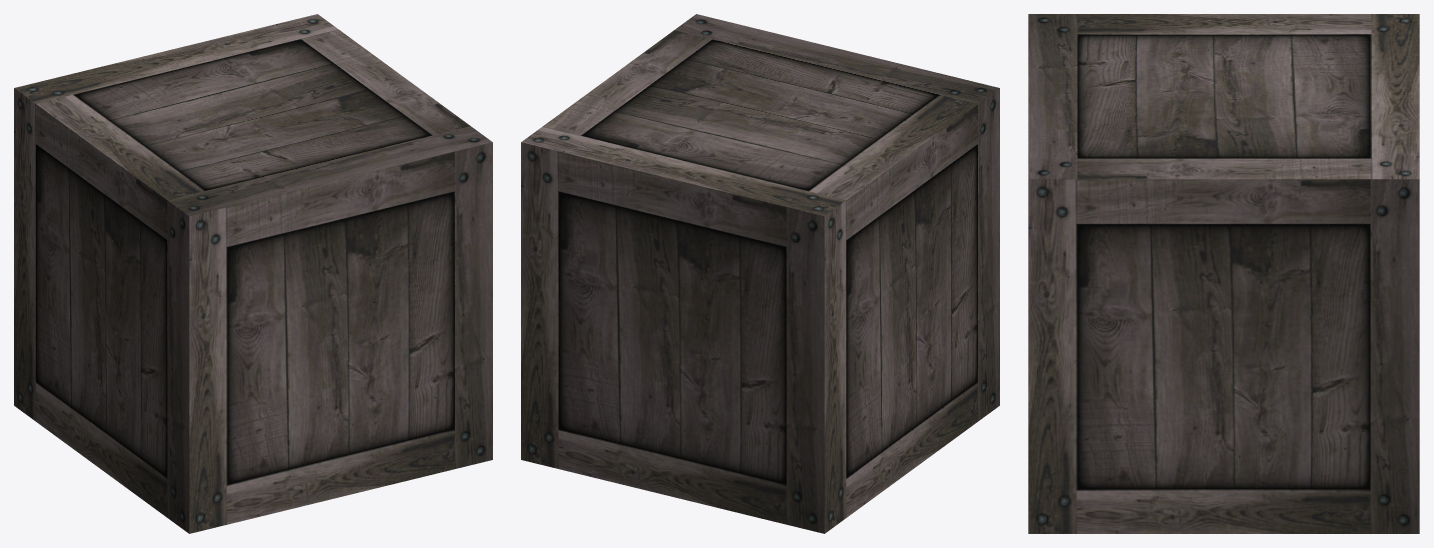
Rendered from Breakable_Wooden_Crate.fbx.
3 views of the same model, side by side, from view 1: azimuth 30°, elevation 25°; view 2: azimuth 150°, elevation 25°; view 3: azimuth 270°, elevation 25° (orthographic). The views are drawn at different scales.
Visible parts, largest first — view 1: Cube_Cube_001, Cube_Cube_001_fracturepart4, Cube_Cube_001_fracturepart6, Cube_Cube_001_fracturepart11, Cube_Cube_001_fracturepart17, Cube_Cube_001_fracturepart14, Cube_Cube_001_fracturepart1, Cube_Cube_001_fracturepart7, Cube_Cube_001_fracturepart2, Cube_Cube_001_fracturepart18, Cube_Cube_001_fracturepart20, Cube_Cube_001_fracturepart9 (+3 smaller); view 2: Cube_Cube_001, Cube_Cube_001_fracturepart2, Cube_Cube_001_fracturepart15, Cube_Cube_001_fracturepart10, Cube_Cube_001_fracturepart5, Cube_Cube_001_fracturepart7, Cube_Cube_001_fracturepart19, Cube_Cube_001_fracturepart1, Cube_Cube_001_fracturepart4, Cube_Cube_001_fracturepart3, Cube_Cube_001_fracturepart17, Cube_Cube_001_fracturepart14 (+1 smaller); view 3: Cube_Cube_001, Cube_Cube_001_fracturepart20, Cube_Cube_001_fracturepart18, Cube_Cube_001_fracturepart17, Cube_Cube_001_fracturepart19, Cube_Cube_001_fracturepart9, Cube_Cube_001_fracturepart5, Cube_Cube_001_fracturepart3, Cube_Cube_001_fracturepart2, Cube_Cube_001_fracturepart13, Cube_Cube_001_fracturepart10.
Part boxes in pixels (x1=…): Cube_Cube_001: x1=14, y1=14, x2=492, y2=533; Cube_Cube_001_fracturepart4: x1=150, y1=272, x2=389, y2=494; Cube_Cube_001_fracturepart6: x1=148, y1=154, x2=359, y2=317; Cube_Cube_001_fracturepart11: x1=150, y1=348, x2=437, y2=533; Cube_Cube_001_fracturepart17: x1=347, y1=84, x2=492, y2=303; Cube_Cube_001_fracturepart14: x1=97, y1=95, x2=255, y2=204; Cube_Cube_001_fracturepart1: x1=53, y1=118, x2=149, y2=276; Cube_Cube_001_fracturepart7: x1=14, y1=324, x2=120, y2=481; Cube_Cube_001_fracturepart2: x1=14, y1=64, x2=168, y2=134; Cube_Cube_001_fracturepart18: x1=435, y1=314, x2=492, y2=462; Cube_Cube_001_fracturepart20: x1=270, y1=33, x2=412, y2=111; Cube_Cube_001_fracturepart9: x1=341, y1=212, x2=417, y2=326; Cube_Cube_001: x1=521, y1=14, x2=999, y2=533; Cube_Cube_001_fracturepart2: x1=694, y1=156, x2=866, y2=344; Cube_Cube_001_fracturepart15: x1=706, y1=303, x2=877, y2=451; Cube_Cube_001_fracturepart10: x1=579, y1=132, x2=753, y2=366; Cube_Cube_001_fracturepart5: x1=521, y1=124, x2=707, y2=258; Cube_Cube_001_fracturepart7: x1=723, y1=426, x2=871, y2=533; Cube_Cube_001_fracturepart19: x1=521, y1=287, x2=723, y2=451; Cube_Cube_001_fracturepart1: x1=849, y1=142, x2=945, y2=308; Cube_Cube_001_fracturepart4: x1=961, y1=190, x2=999, y2=390; Cube_Cube_001_fracturepart3: x1=569, y1=450, x2=726, y2=499; Cube_Cube_001_fracturepart17: x1=617, y1=14, x2=838, y2=79; Cube_Cube_001_fracturepart14: x1=733, y1=131, x2=914, y2=170; Cube_Cube_001: x1=1028, y1=14, x2=1419, y2=533; Cube_Cube_001_fracturepart20: x1=1179, y1=99, x2=1419, y2=369; Cube_Cube_001_fracturepart18: x1=1028, y1=363, x2=1308, y2=533; Cube_Cube_001_fracturepart17: x1=1028, y1=102, x2=1206, y2=368; Cube_Cube_001_fracturepart19: x1=1286, y1=342, x2=1419, y2=519; Cube_Cube_001_fracturepart9: x1=1051, y1=249, x2=1296, y2=380; Cube_Cube_001_fracturepart5: x1=1309, y1=100, x2=1419, y2=283; Cube_Cube_001_fracturepart3: x1=1307, y1=514, x2=1419, y2=533; Cube_Cube_001_fracturepart2: x1=1304, y1=14, x2=1419, y2=83; Cube_Cube_001_fracturepart13: x1=1083, y1=97, x2=1252, y2=129; Cube_Cube_001_fracturepart10: x1=1281, y1=80, x2=1419, y2=103.
Size of the model in its own units: 186 by 186 by 186.
1 material, 1 textured.
